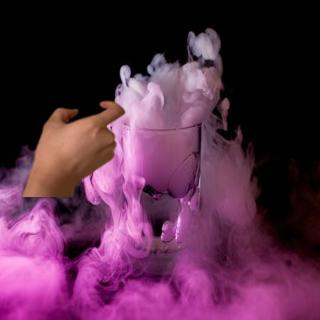HATE: (24, 96, 129, 191)
